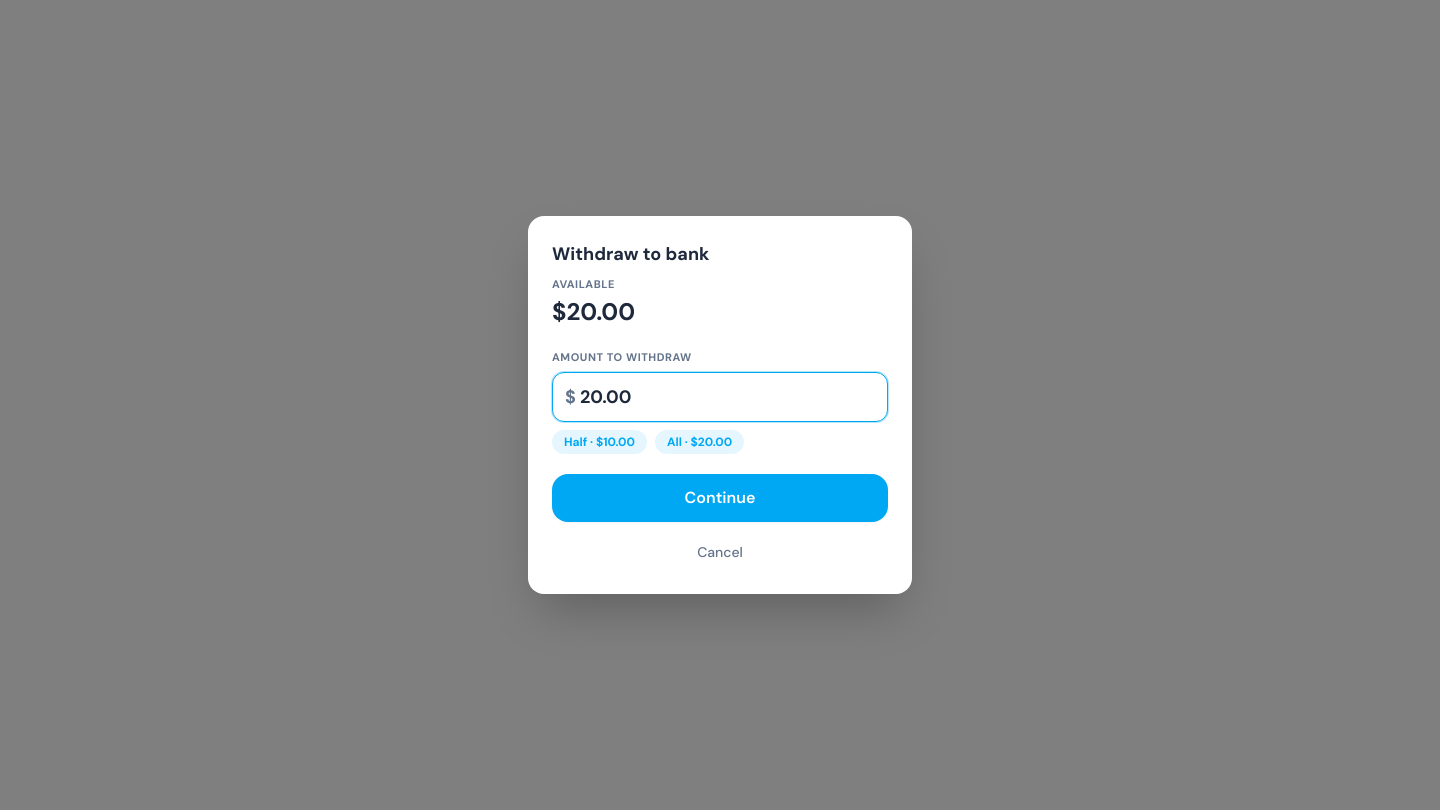
Scenario: WithdrawSheet (F5) › surfaces the error message on failure
This screenshot has width=1440, height=810.
Click the button with test id "withdraw-sheet-confirm". click: (720, 498)
box: top-left (552, 474), bottom-right (888, 522)
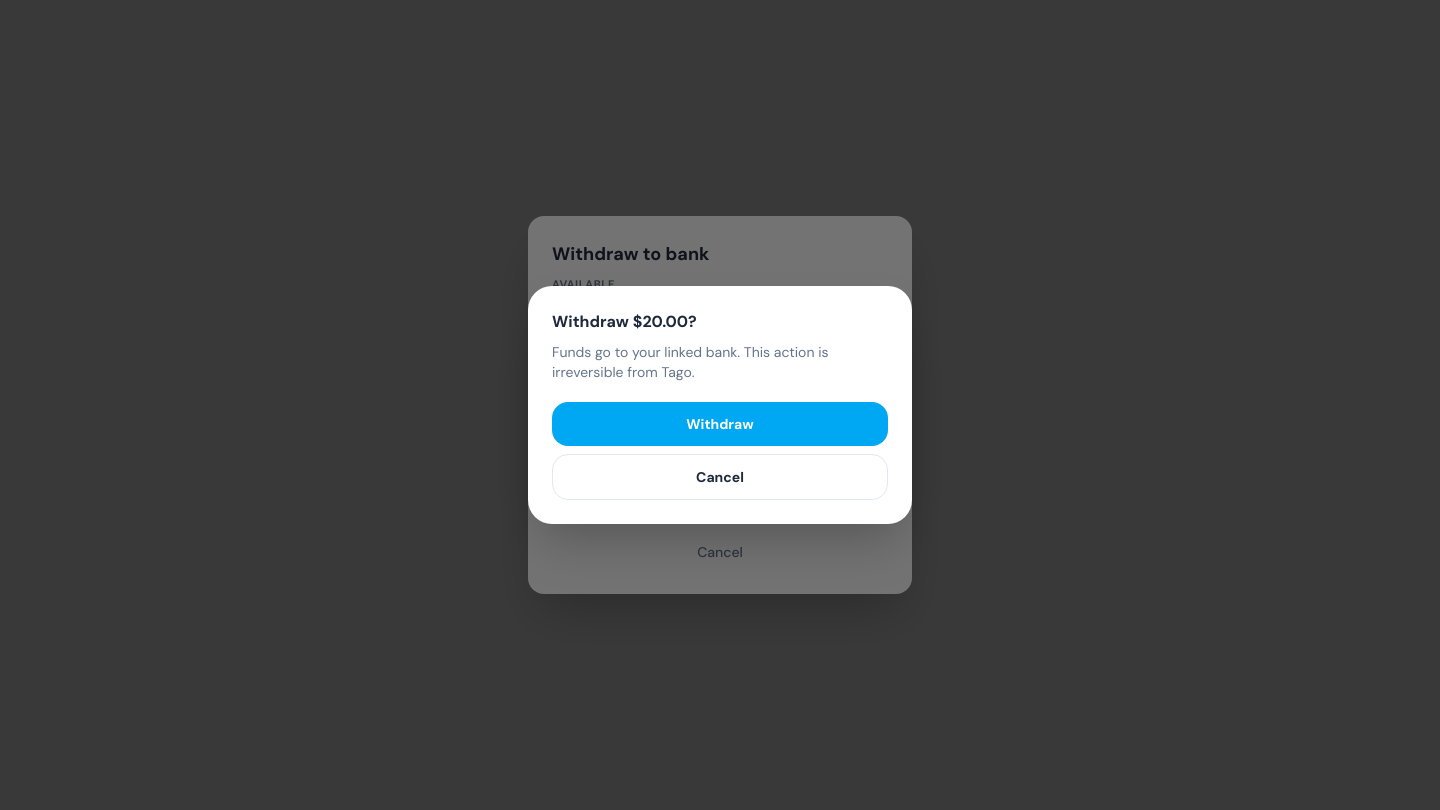
Click the button with test id "withdraw-confirm-yes". click: (720, 424)
box: top-left (552, 402), bottom-right (888, 446)
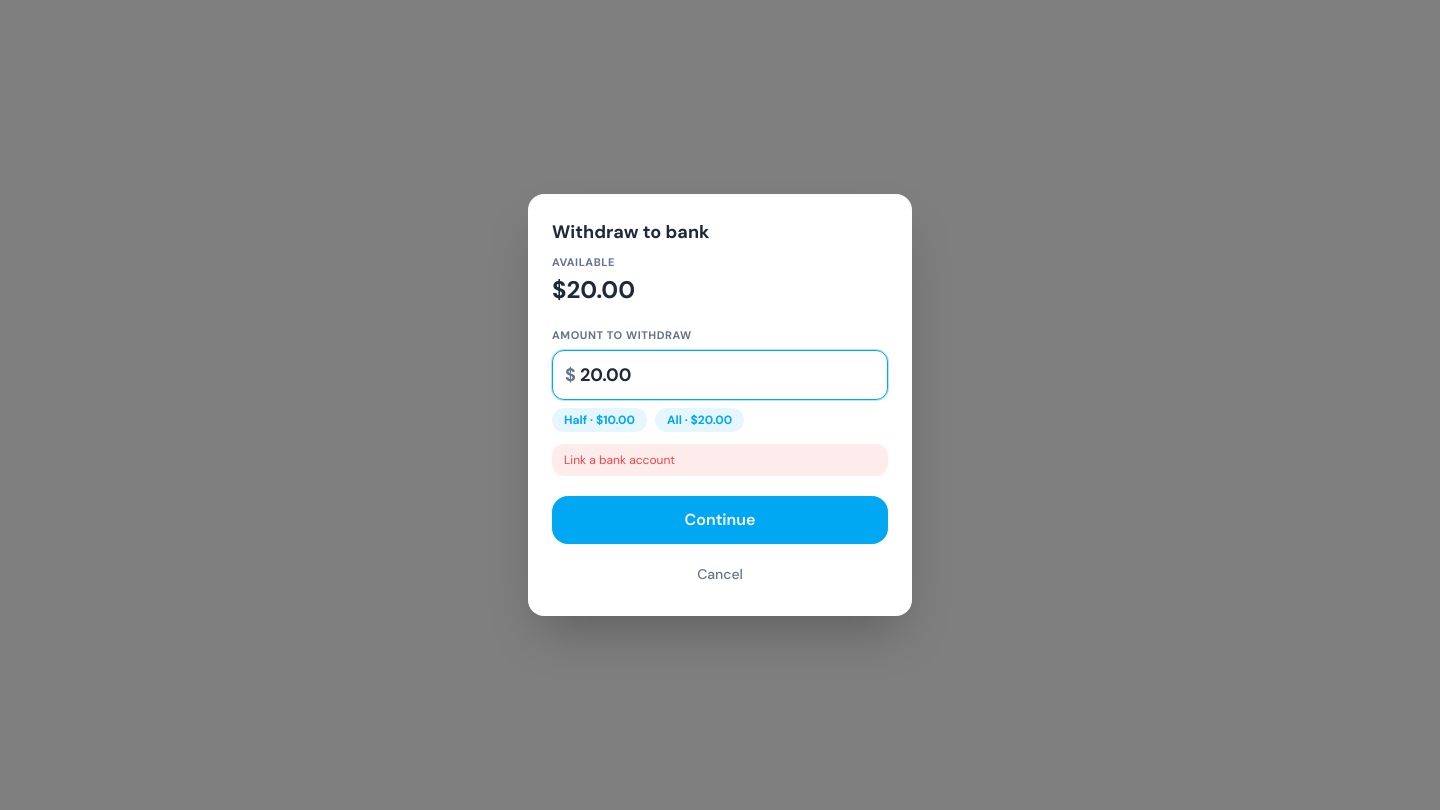
Check: the text with test id "withdraw-sheet-error" reads "Link a bank account", box top-left (564, 452), bottom-right (675, 468)
